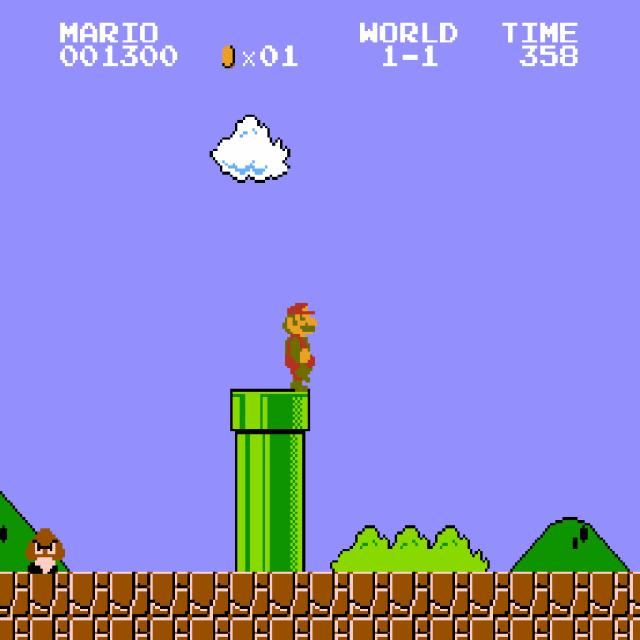big_mario: (277, 298, 320, 392)
goomba: (23, 526, 65, 574)
pipe: (230, 434, 270, 480), (230, 480, 270, 526), (270, 434, 310, 480), (270, 480, 310, 526), (230, 526, 270, 571), (270, 526, 310, 571)
pipe_head: (230, 389, 270, 434), (270, 389, 310, 434)
undestructible_block: (30, 572, 70, 617), (70, 572, 110, 617), (110, 572, 150, 617), (150, 572, 190, 617), (190, 572, 230, 617), (230, 572, 270, 617), (270, 572, 310, 617), (310, 572, 350, 617), (350, 572, 390, 617), (390, 572, 430, 617), (430, 572, 470, 617), (470, 572, 510, 617), (510, 572, 550, 617), (550, 572, 590, 617), (590, 572, 630, 617), (0, 572, 30, 617), (30, 617, 70, 640), (70, 617, 110, 640), (110, 617, 150, 640), (150, 617, 190, 640), (190, 617, 230, 640), (230, 617, 270, 640), (270, 617, 310, 640), (310, 617, 350, 640), (350, 617, 390, 640), (390, 617, 430, 640), (430, 617, 470, 640), (470, 617, 510, 640), (510, 617, 550, 640), (550, 617, 590, 640), (590, 617, 630, 640), (0, 617, 30, 640), (629, 571, 640, 617), (629, 617, 640, 639)
